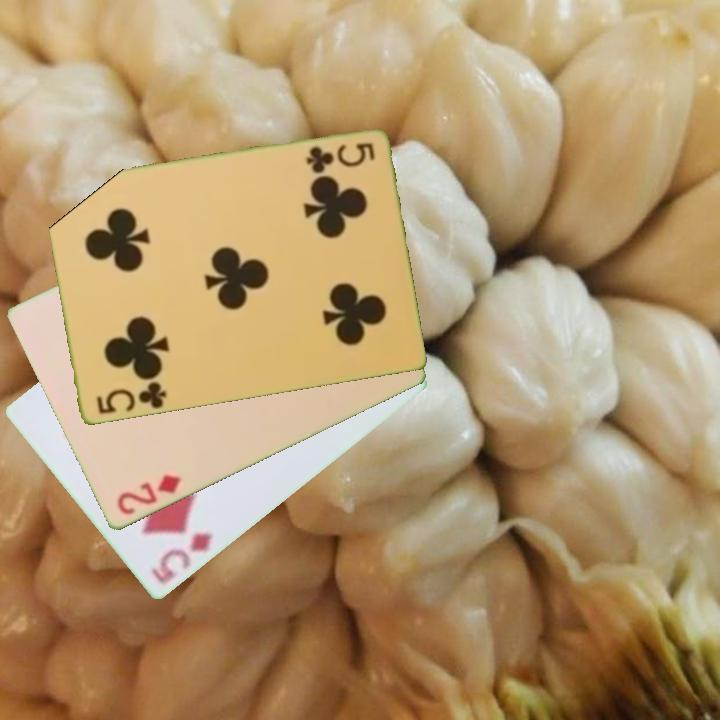2d: (113, 471, 184, 519)
5c: (92, 375, 169, 418), (302, 139, 378, 176)
5d: (147, 529, 216, 588)
